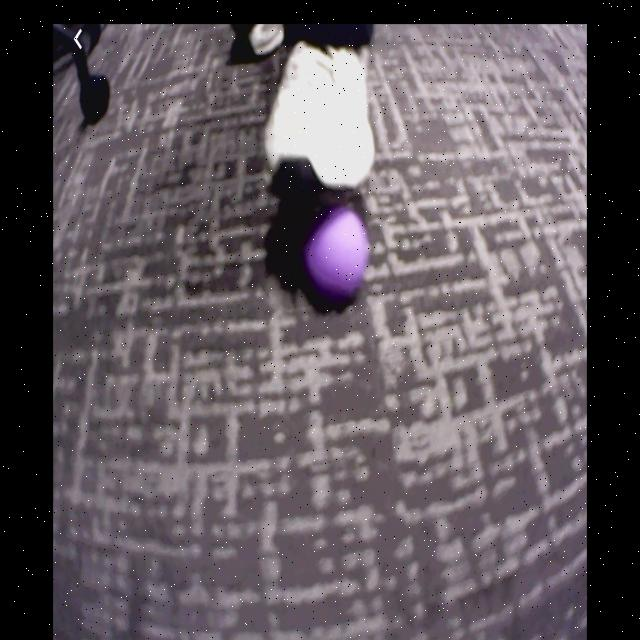ball: (305, 206, 370, 294)
